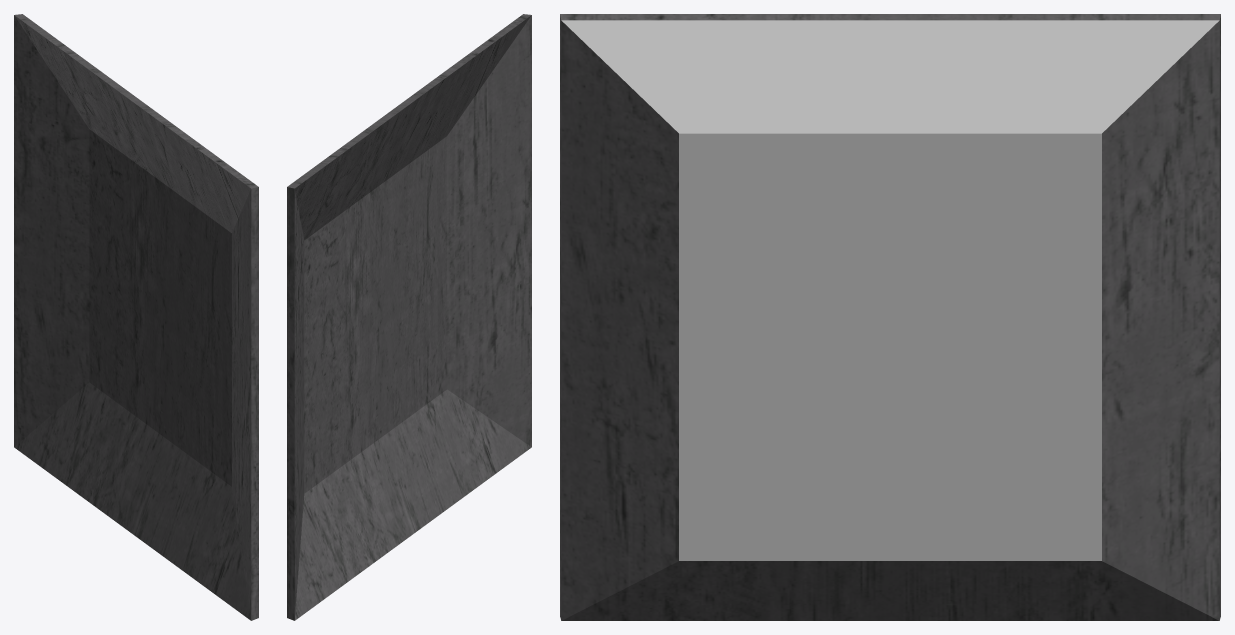
File: p6_fuse_box_lid_a_lod1.glb
3 renders of one model, left to right at view 1: azimuth 30°, elevation 25°; view 2: azimuth 150°, elevation 25°; view 3: azimuth 270°, elevation 25°, orthographic. The views are drawn at different scales.
Parts seen in each view (by area): view 1: surf1; view 2: surf1; view 3: surf2, surf1, surf0.
Boxes of the visible parts, x1=… form: surf1: x1=14, y1=14, x2=258, y2=620; surf1: x1=287, y1=14, x2=531, y2=620; surf2: x1=561, y1=20, x2=1219, y2=560; surf1: x1=560, y1=14, x2=1220, y2=620; surf0: x1=767, y1=157, x2=1012, y2=471.
Bounding box in the file's own units: 2.83 × 24.14 × 24.
